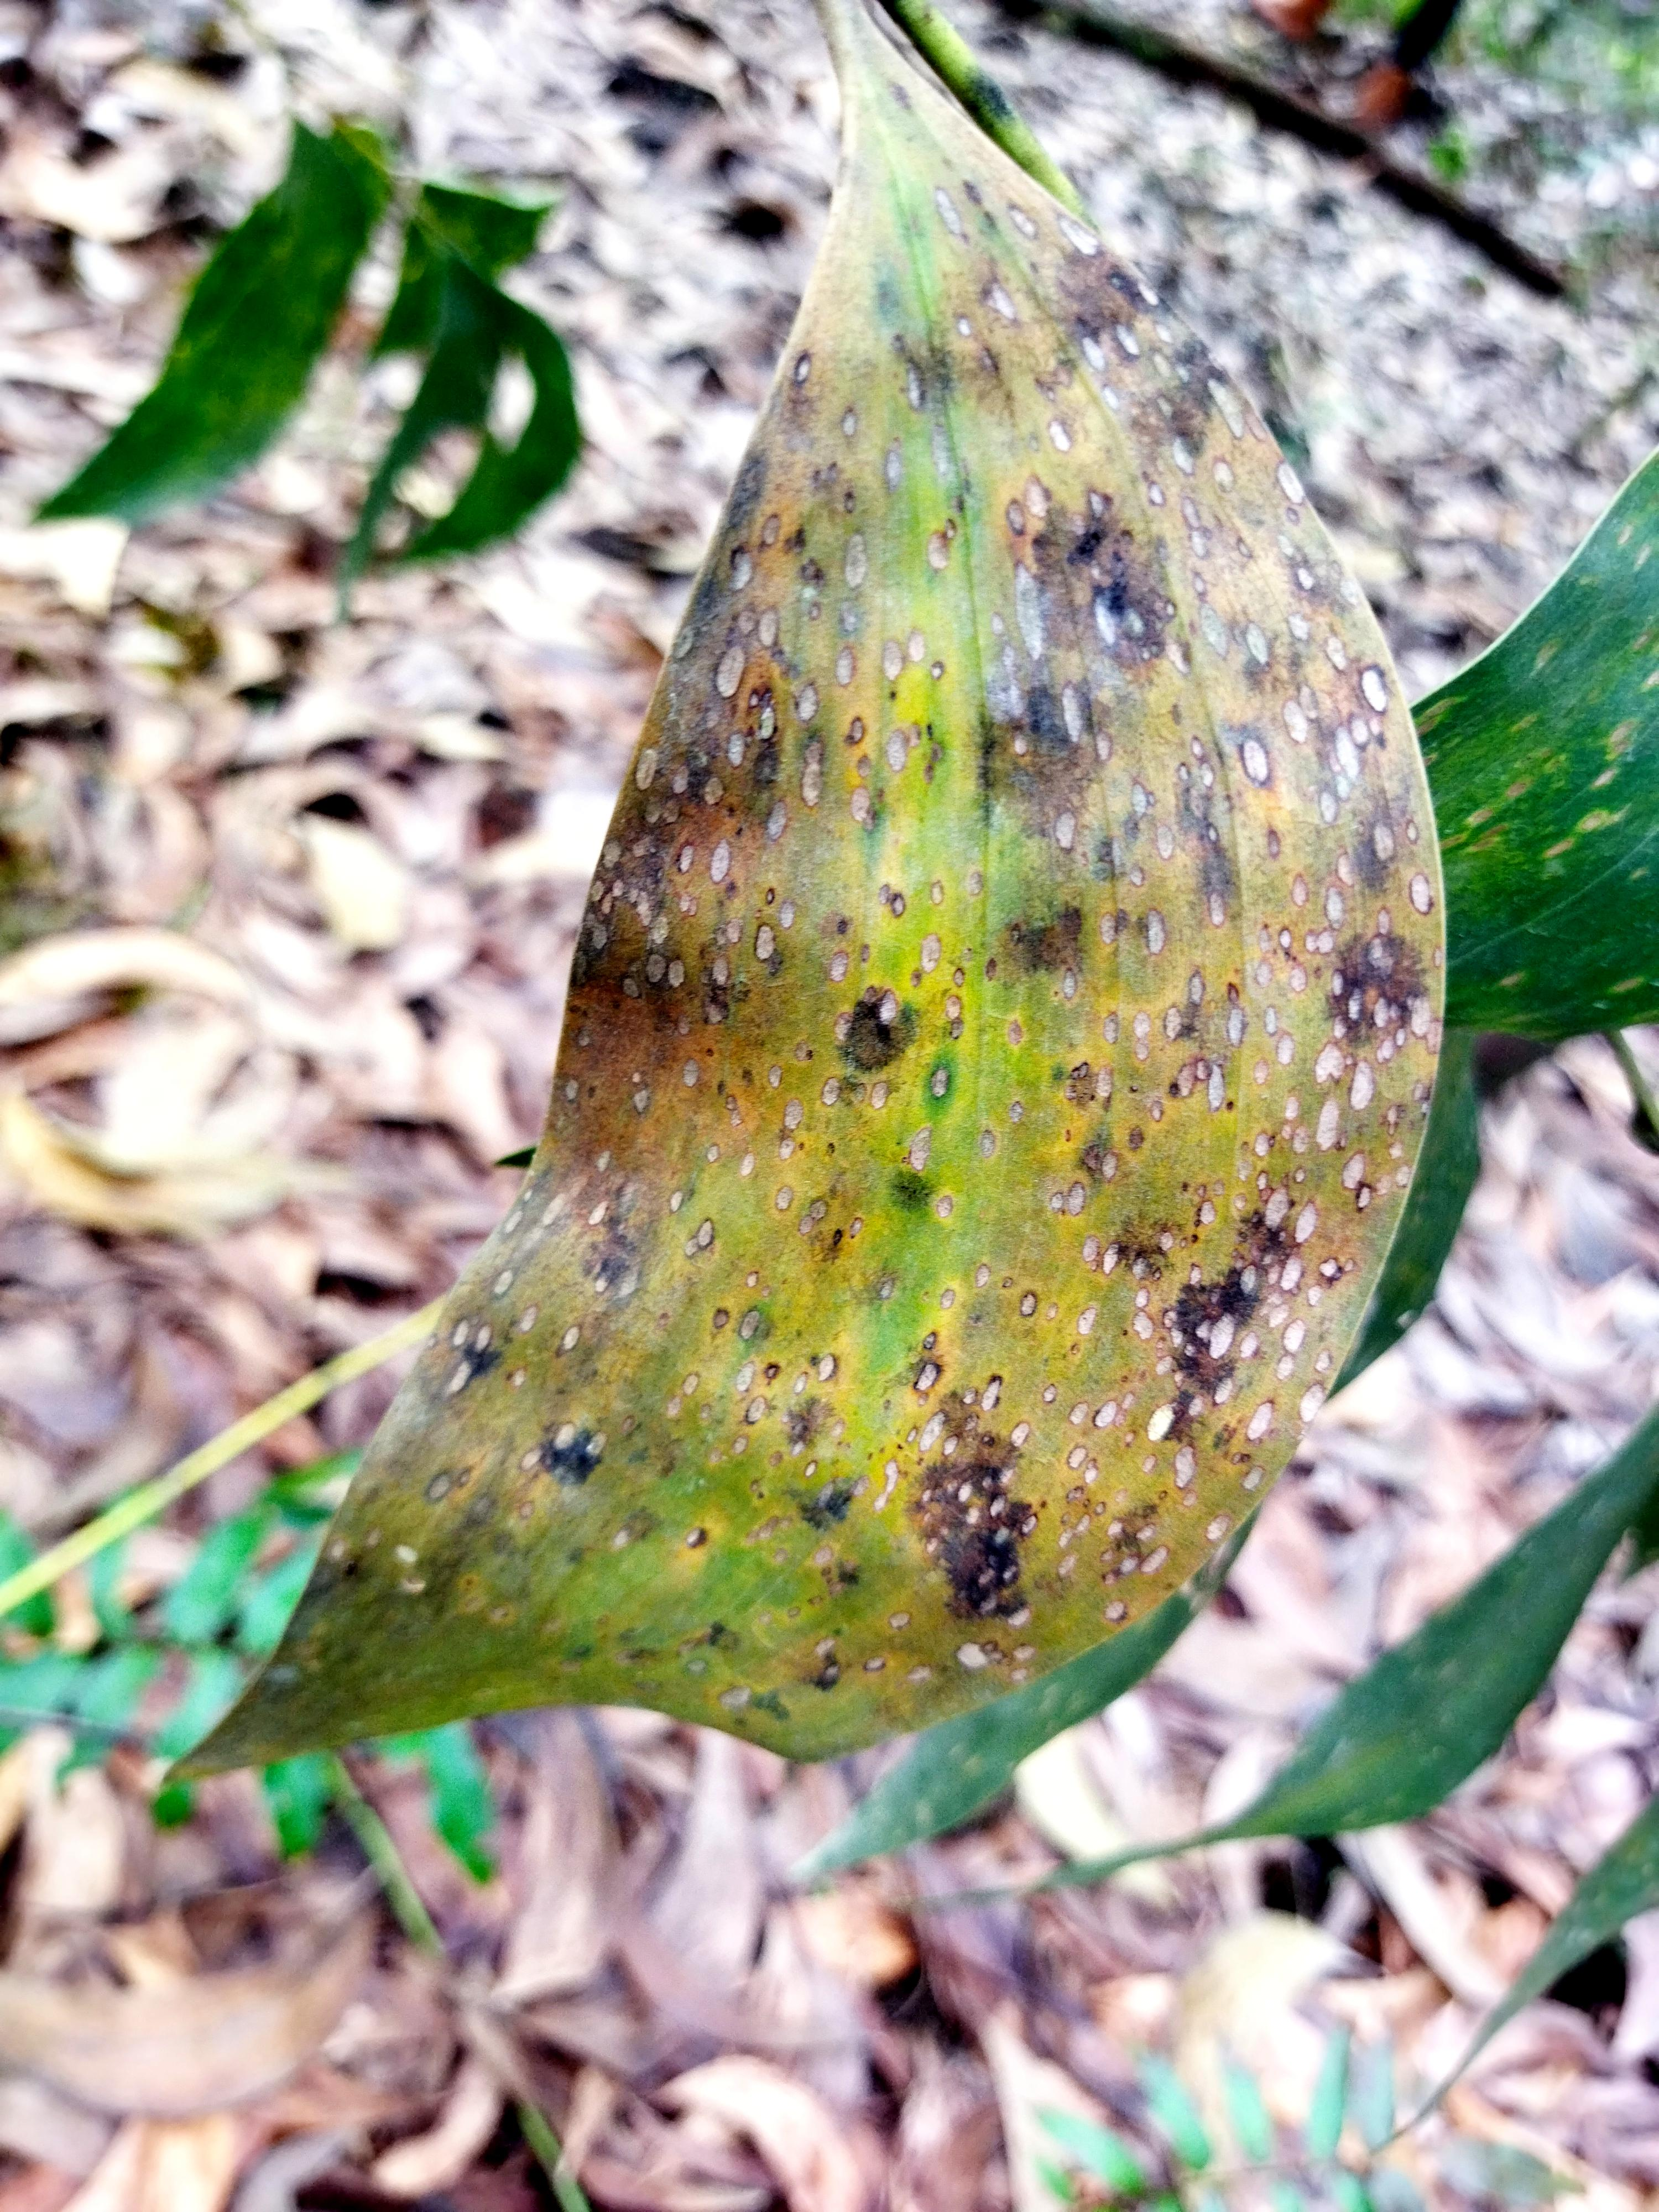Xanthomonas: (786, 300, 1438, 1761)
